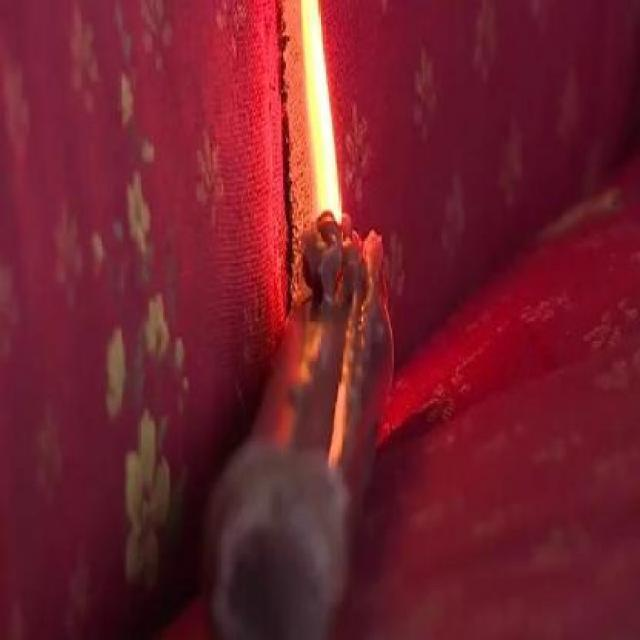fire: (290, 3, 370, 208)
